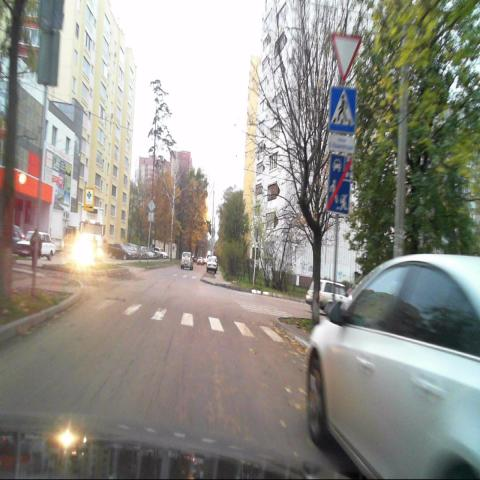5_22: (328, 155, 350, 211)
